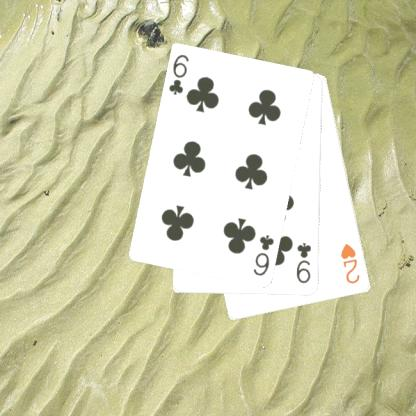2H: (338, 240, 362, 286)
6C: (250, 232, 276, 278), (166, 52, 190, 97)
9C: (294, 240, 313, 286)
